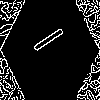I: (25, 25, 65, 60)
